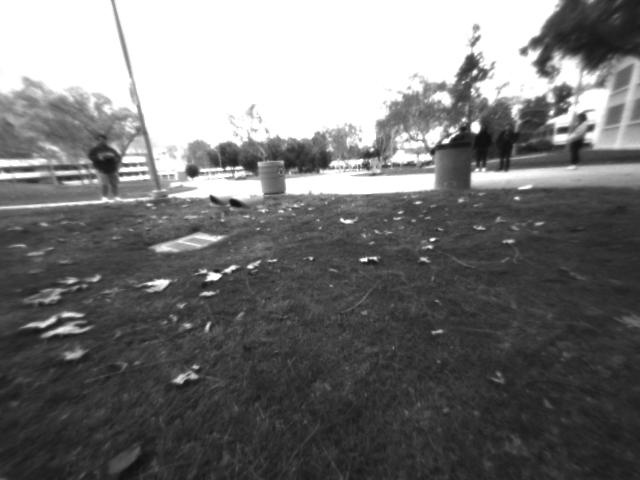trashcan: (434, 141, 471, 196), (258, 158, 291, 198)
